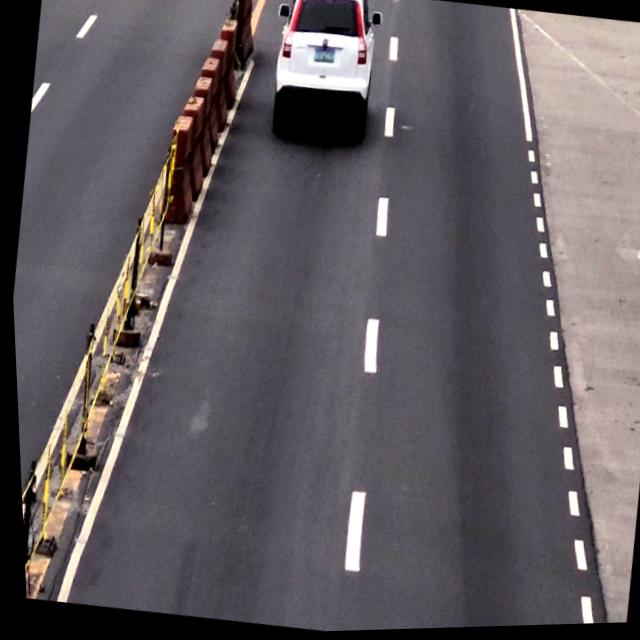Car: (264, 0, 384, 144)
License-Plate: (311, 47, 337, 68)
